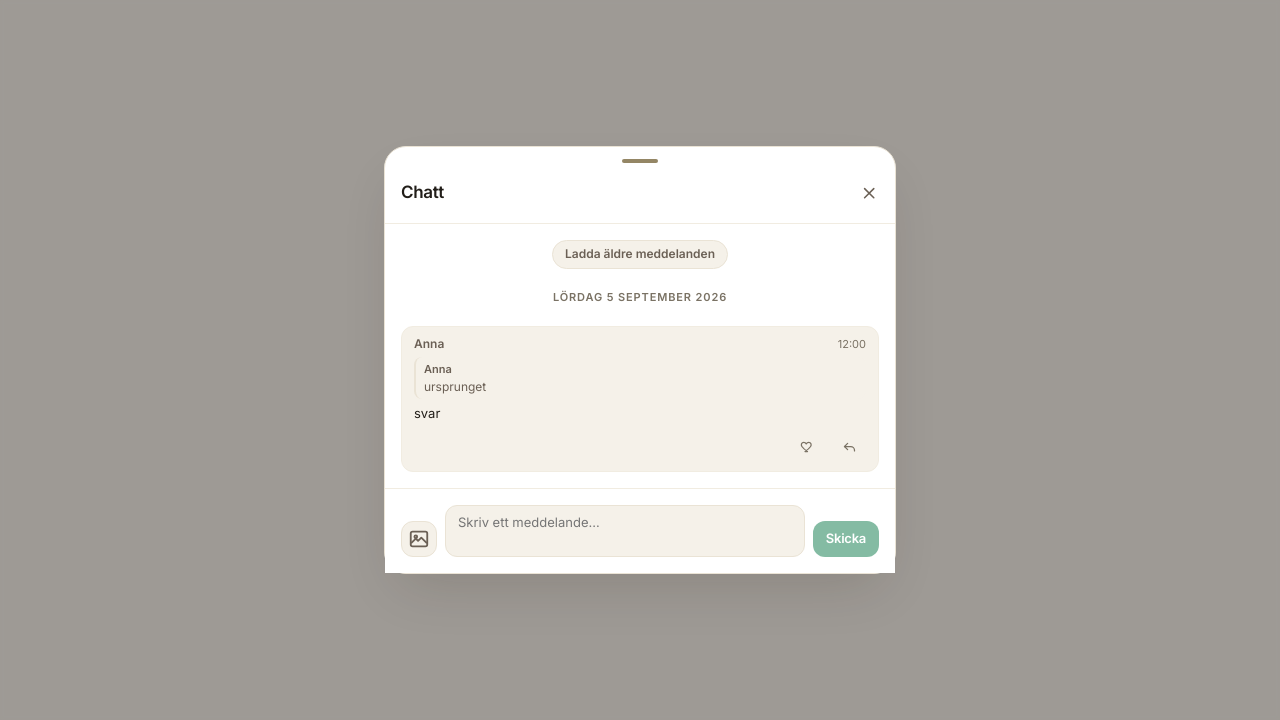
it: ChatPanel — jump to original from a reply quote (Task H) › pages upward (bounded) to reach an unloaded target, then scrolls to it
Click the button with aria-label "Svar på" at (455, 387), box x1=414 y1=357 x2=866 y2=399
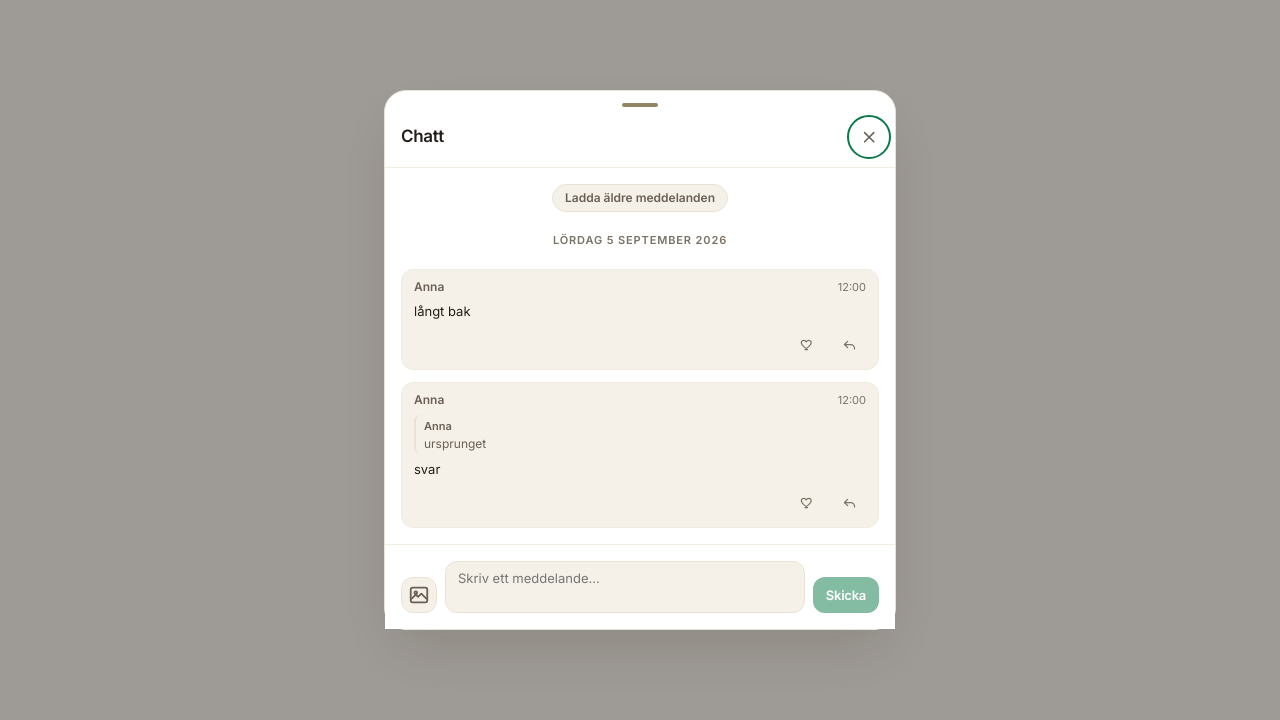
Result: the element showing "Anna 12:00 långt bak" is shown at x1=401 y1=269 x2=879 y2=370
